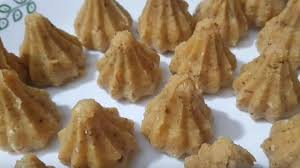modak: (139, 60, 216, 151), (46, 98, 146, 168), (91, 26, 175, 102), (11, 12, 93, 87), (170, 8, 240, 91), (235, 37, 300, 125), (71, 3, 143, 50), (136, 1, 202, 51)
